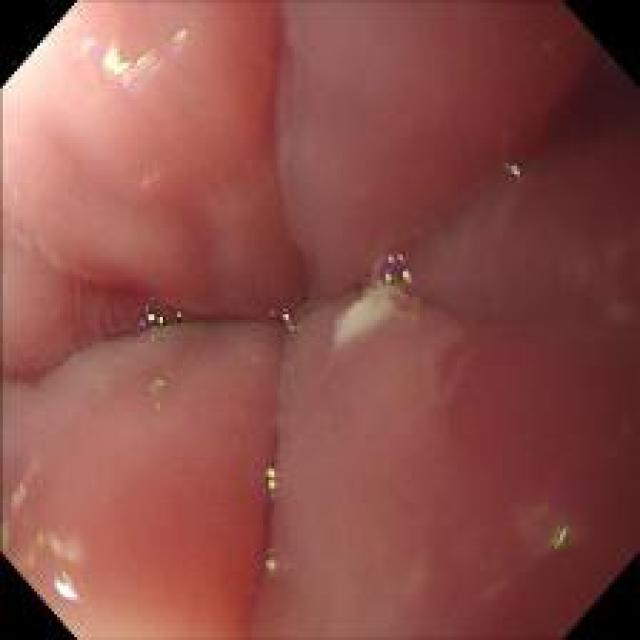bubbles: (372, 249, 428, 305), (132, 289, 169, 342), (264, 299, 306, 331)
color misalignment: (122, 41, 166, 95), (1, 478, 31, 548), (375, 249, 420, 295), (541, 515, 578, 556), (49, 568, 85, 609), (262, 541, 289, 585), (139, 298, 170, 335), (495, 150, 525, 182), (262, 462, 286, 500), (171, 306, 185, 322)
saturation: (8, 16, 72, 86)
specularity: (95, 26, 192, 95), (52, 578, 72, 599)
